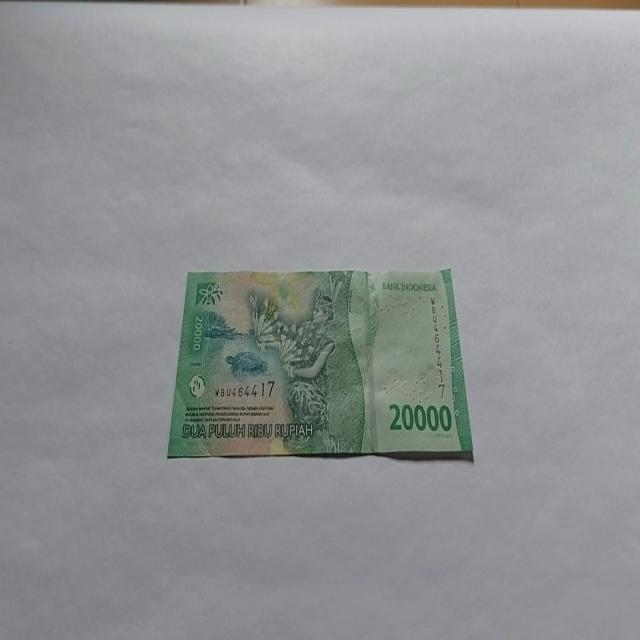dua puluh ribu rupiah: (166, 265, 474, 463)
